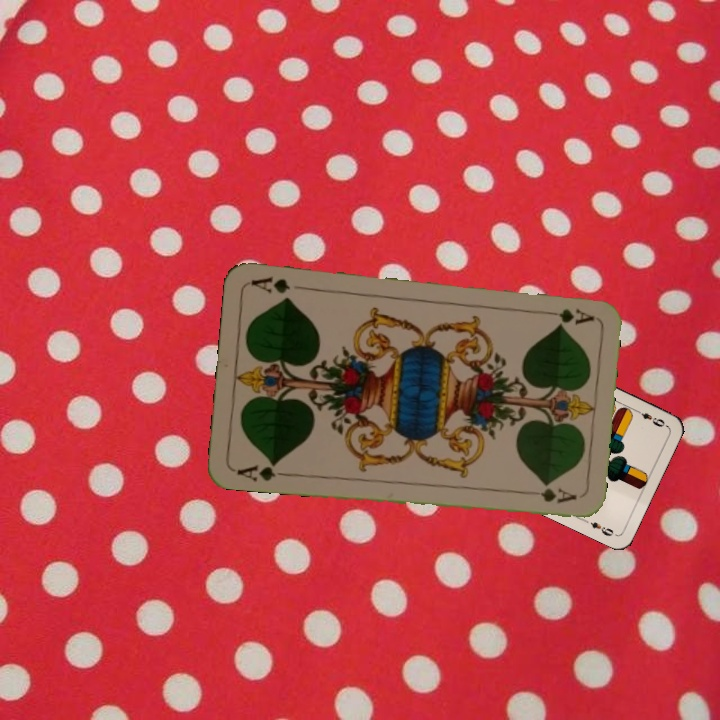E9: (631, 405, 669, 430)
GA: (233, 457, 291, 484), (537, 304, 596, 326)
